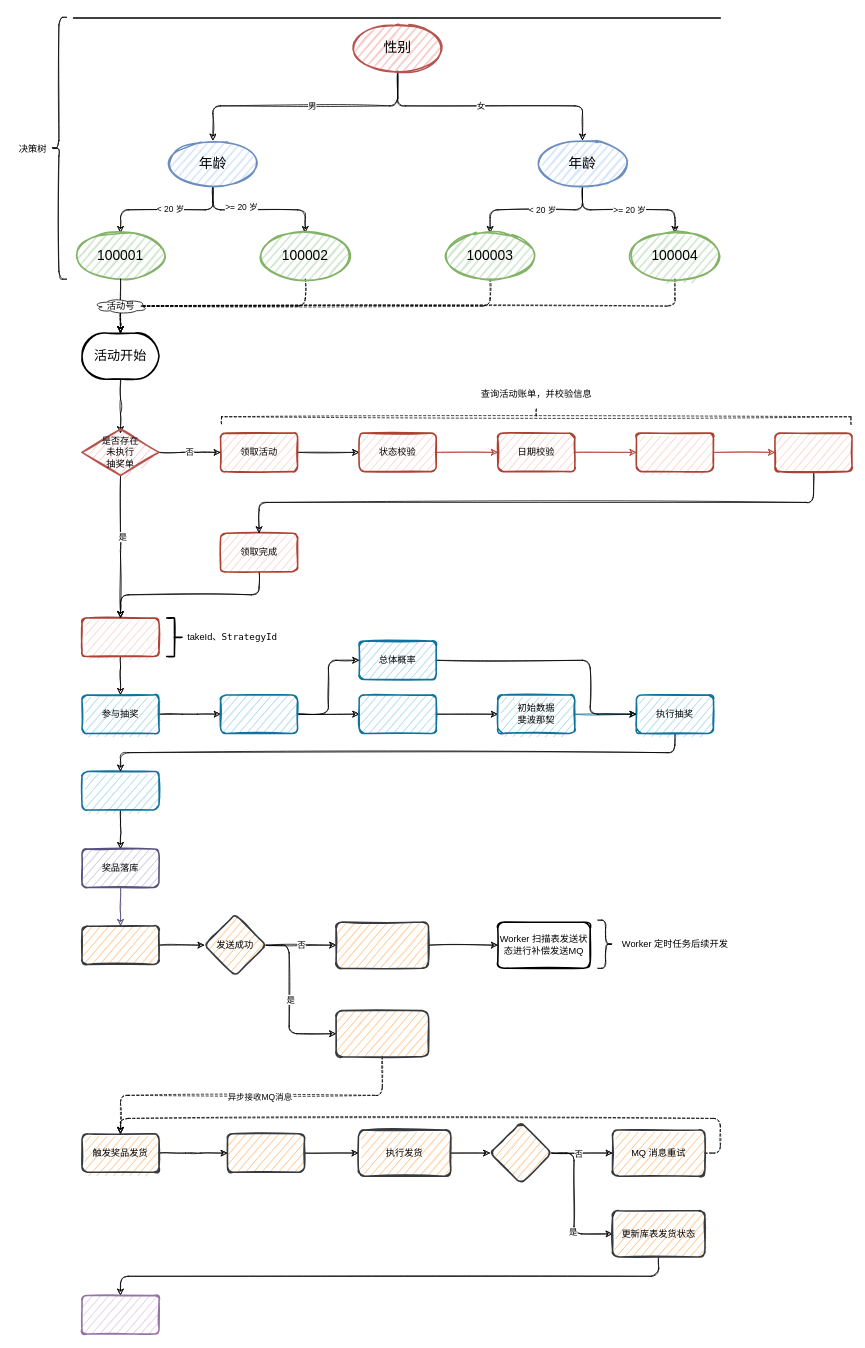
Some shapes in this 865 by 1348 pixel diagram are drawn without their labels. Each missing label, with the box of its shape:
单项概率: (358, 694, 437, 734)
参与次数: (774, 432, 852, 472)
发货成功: (489, 1121, 552, 1184)
发送MQ消息: (81, 925, 159, 965)
库存校验(总): (635, 432, 714, 472)
抽奖策略: (219, 694, 298, 734)
抽奖结果 奖品ID🏅: (81, 770, 159, 810)
更新表，MQ状态 失败: (335, 921, 429, 969)
更新表，MQ状态 成功: (335, 1009, 429, 1057)
获取奖品发货工厂服务: (226, 1133, 305, 1173)
获取抽奖单信息: (81, 617, 159, 657)
返回用户抽奖结果: (81, 1294, 159, 1334)
